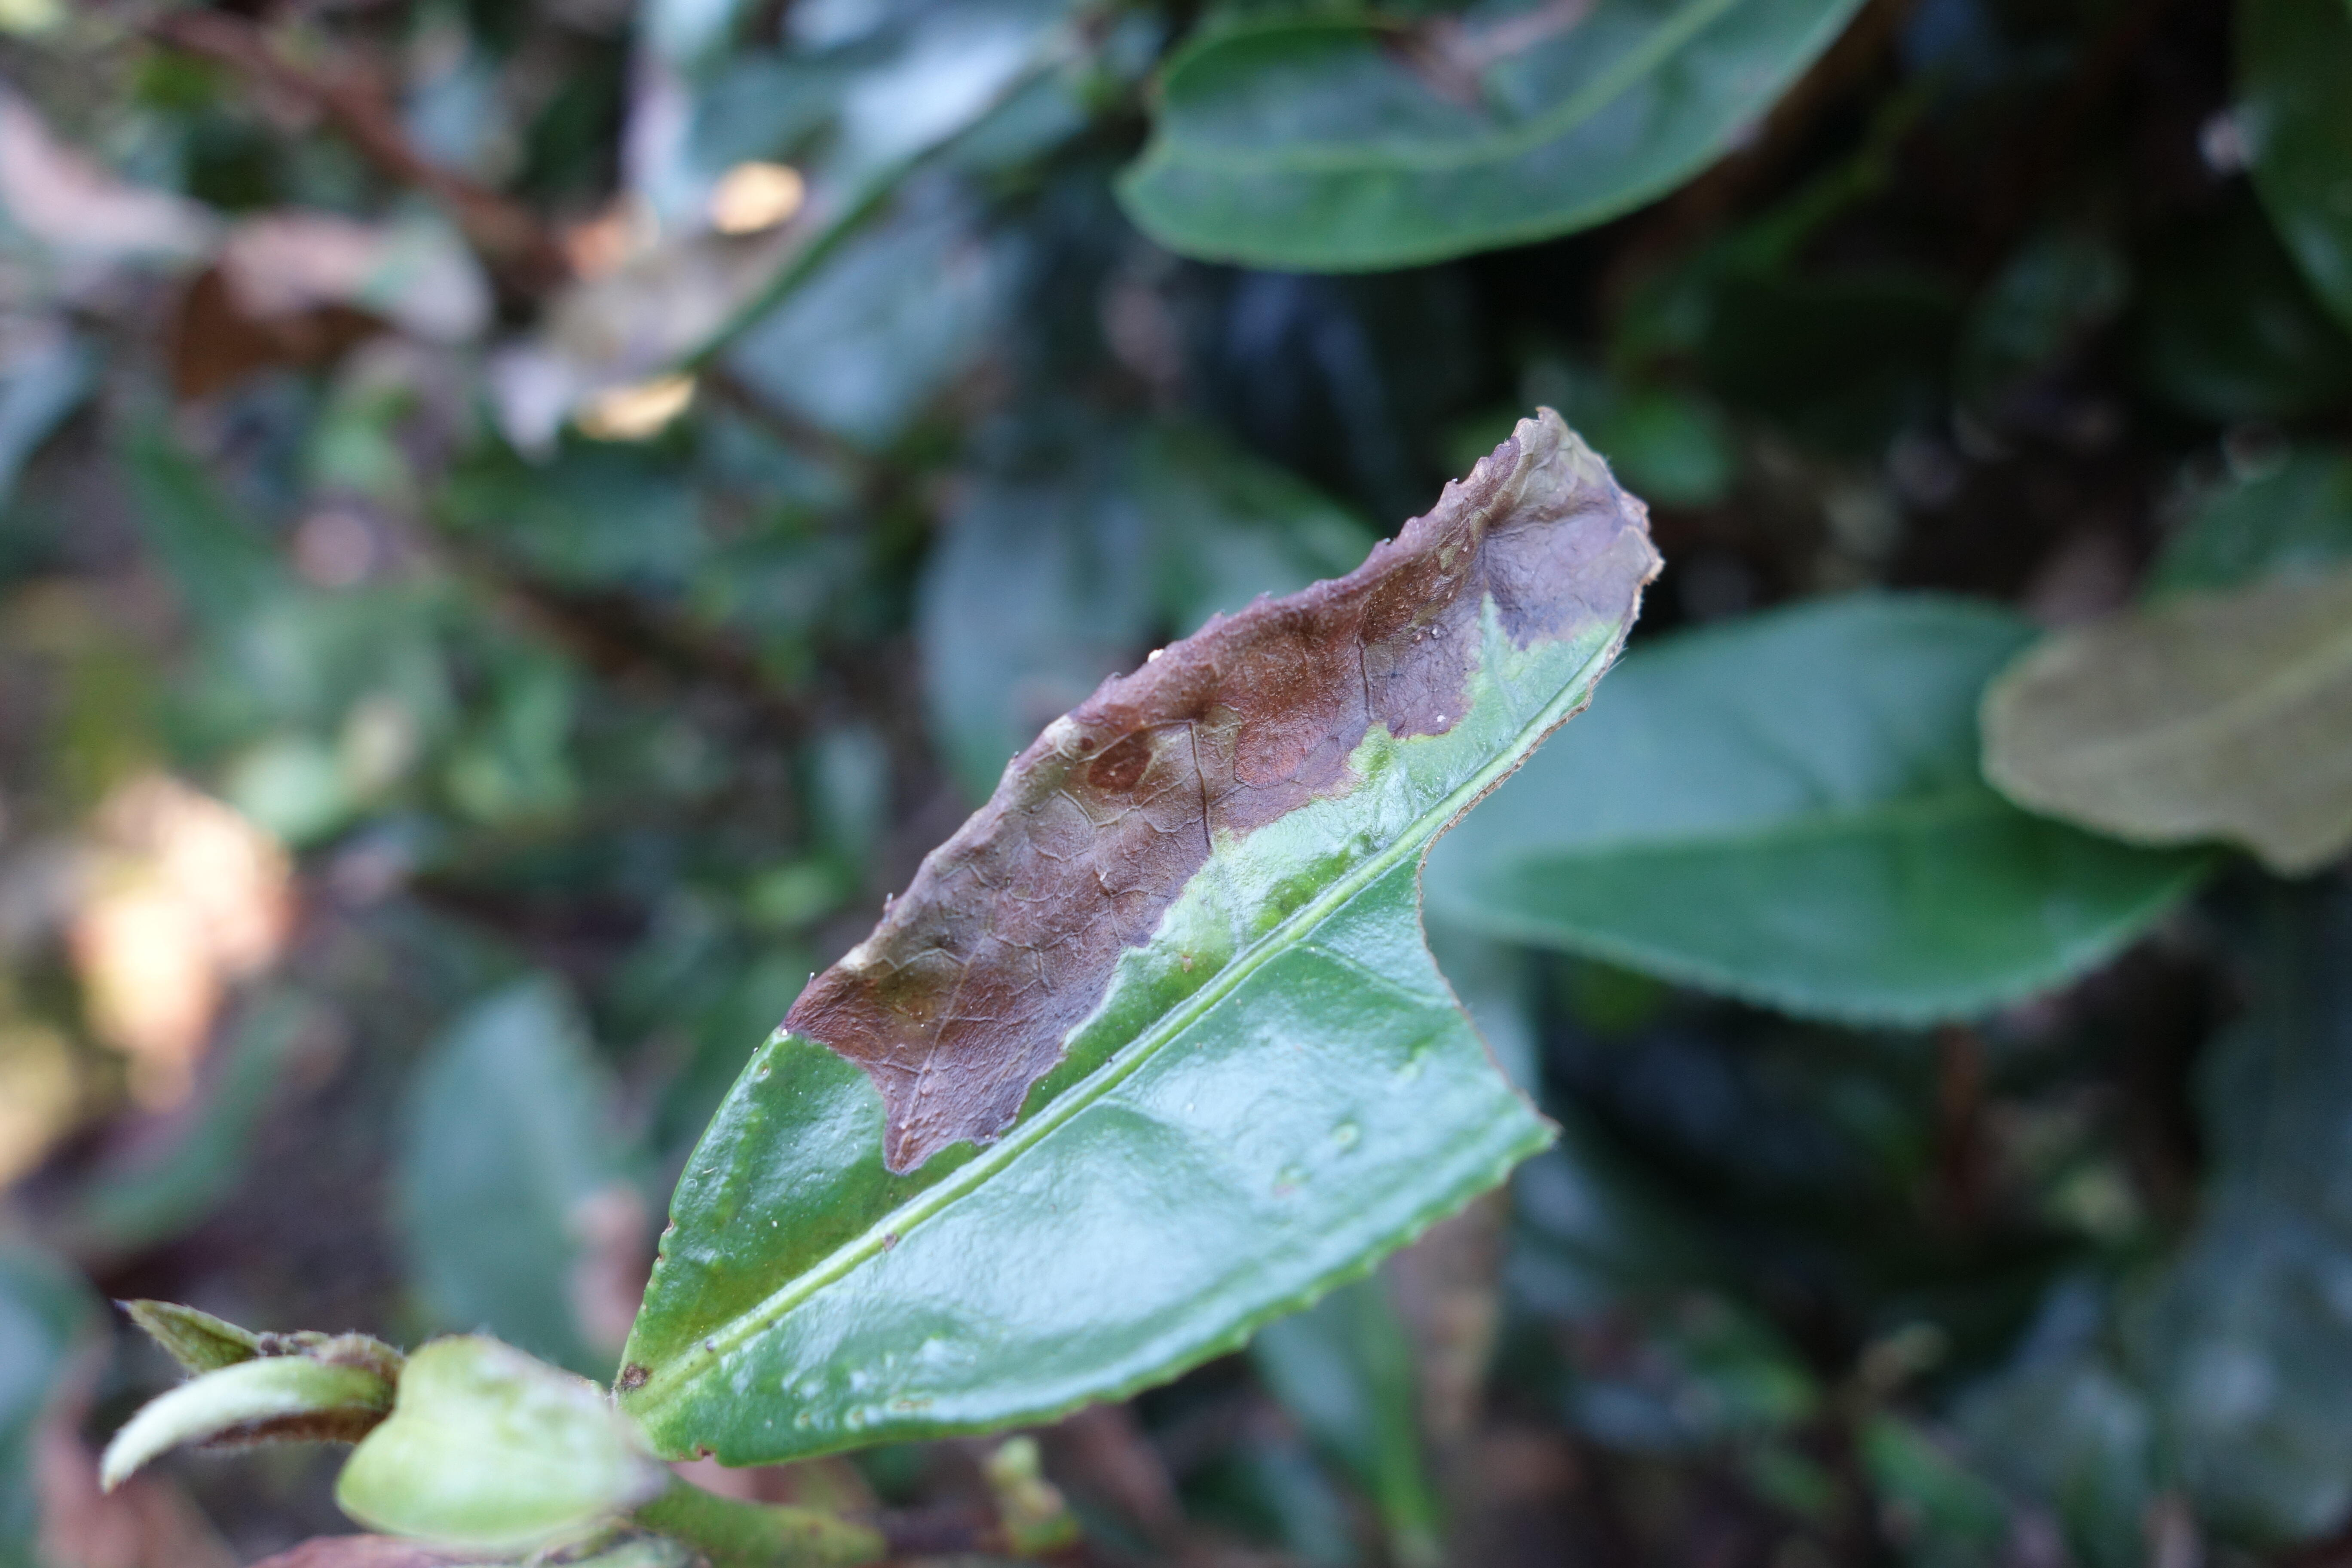tanju_high: (621, 406, 1671, 1459)
